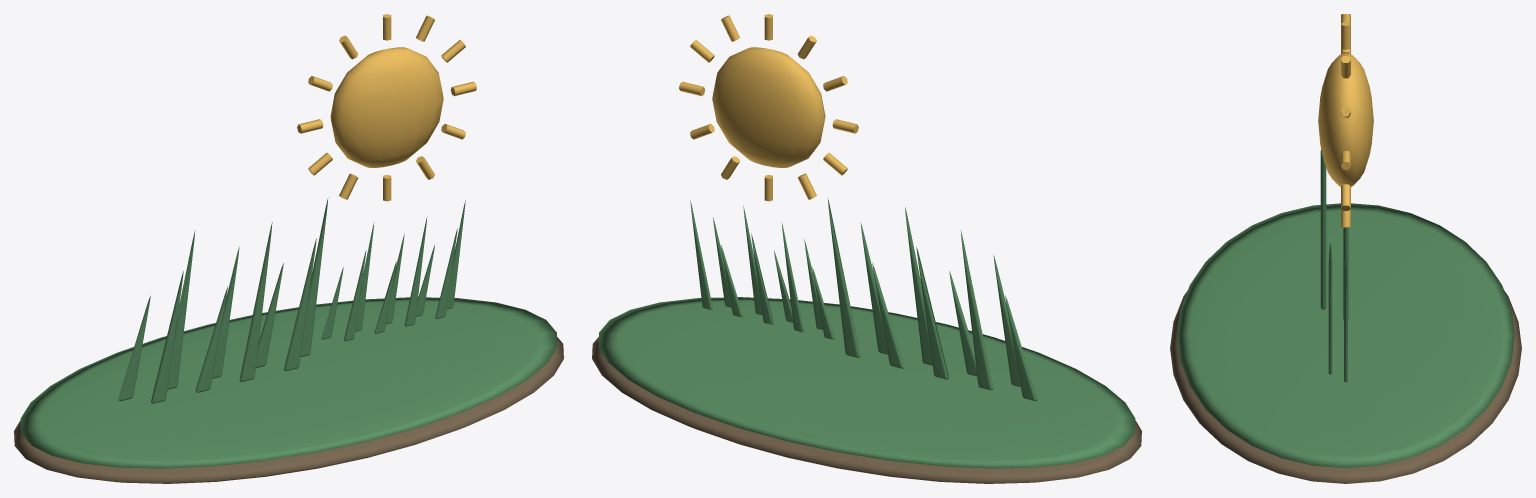
File: early-grass.glb
3 renders of one model, left to right at view 1: azimuth 30°, elevation 25°; view 2: azimuth 150°, elevation 25°; view 3: azimuth 270°, elevation 25°, orthographic. The views are drawn at different scales.
Parts seen in each view (by area): view 1: early-grass_surface_01, early-grass_surface_02, early-grass_surface_00; view 2: early-grass_surface_01, early-grass_surface_02, early-grass_surface_00; view 3: early-grass_surface_01, early-grass_surface_00, early-grass_surface_02.
Part boxes in pixels (x1,y1,x2,y2): early-grass_surface_01: (20, 197, 557, 468); early-grass_surface_02: (297, 14, 476, 201); early-grass_surface_00: (14, 337, 563, 483); early-grass_surface_01: (598, 197, 1135, 468); early-grass_surface_02: (679, 14, 858, 201); early-grass_surface_00: (592, 337, 1141, 483); early-grass_surface_01: (1177, 149, 1514, 468); early-grass_surface_00: (1170, 290, 1521, 483); early-grass_surface_02: (1318, 14, 1373, 227).
Bounding box in the file's own units: 4.56 × 3.07 × 2.5.
